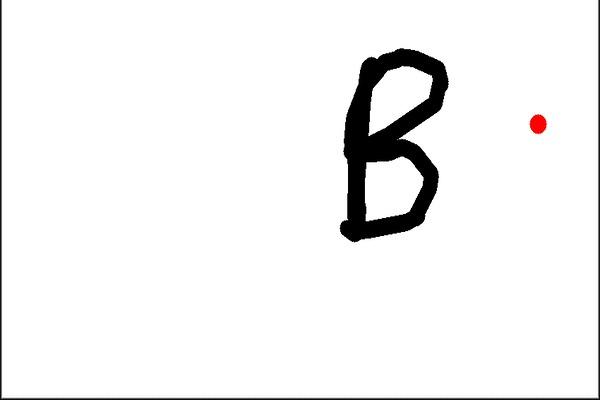B: (332, 40, 454, 246)
